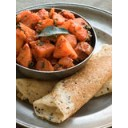dosa: (33, 44, 114, 121)
